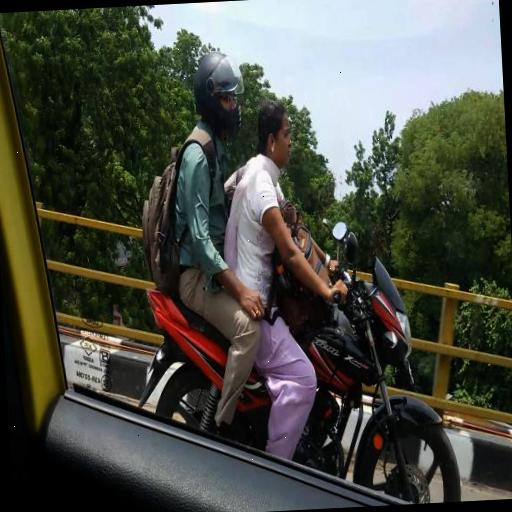no helmet: (233, 62, 384, 512)
